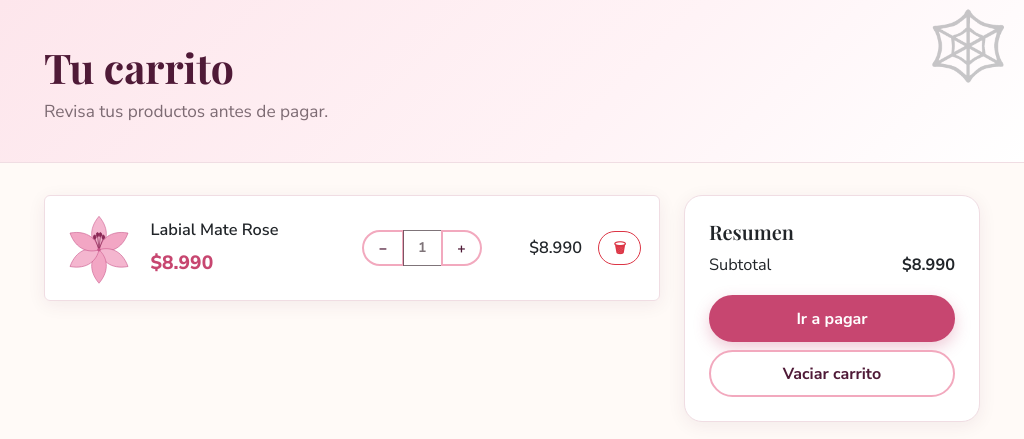
Test: Carrito › al sumar una unidad actualiza la cantidad y el subtotal
The width and height of the screenshot is (1024, 439).
Click the button named "Agregar una unidad" at (461, 248), box [441,230,482,266]
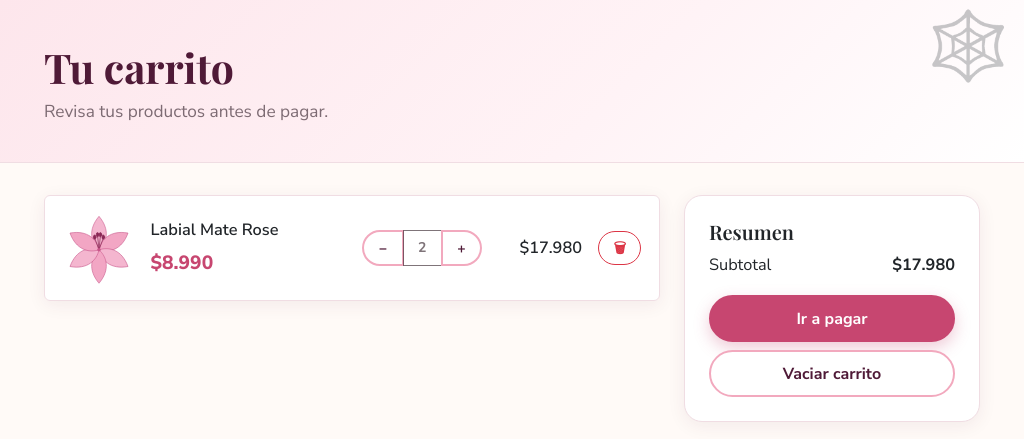
Now the text "$17.980" is shown, box [519,237,582,259]
